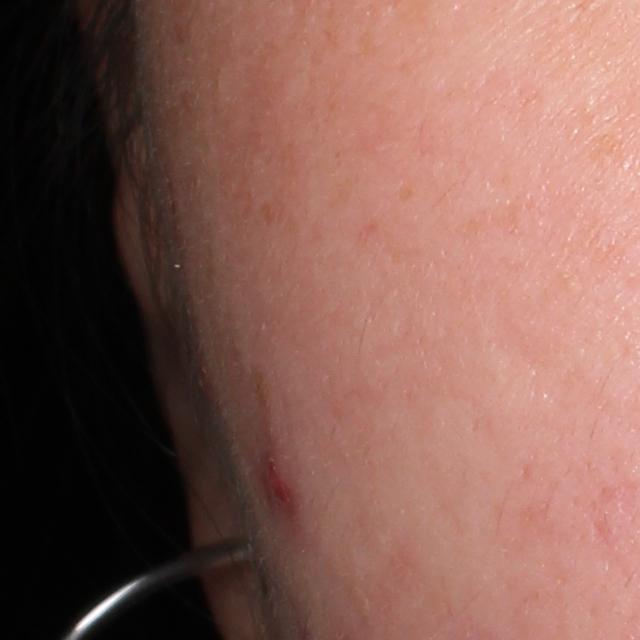atrophic_scar: (589, 514, 617, 554)
papule: (256, 454, 297, 508)
